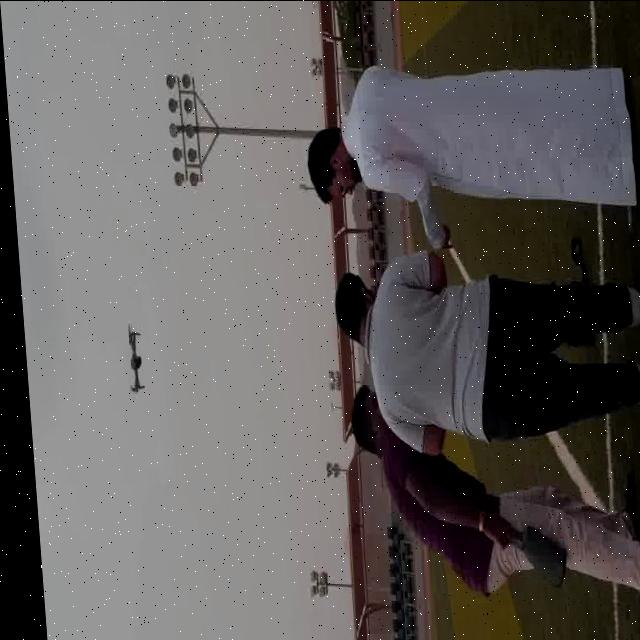drone: (118, 310, 142, 398)
